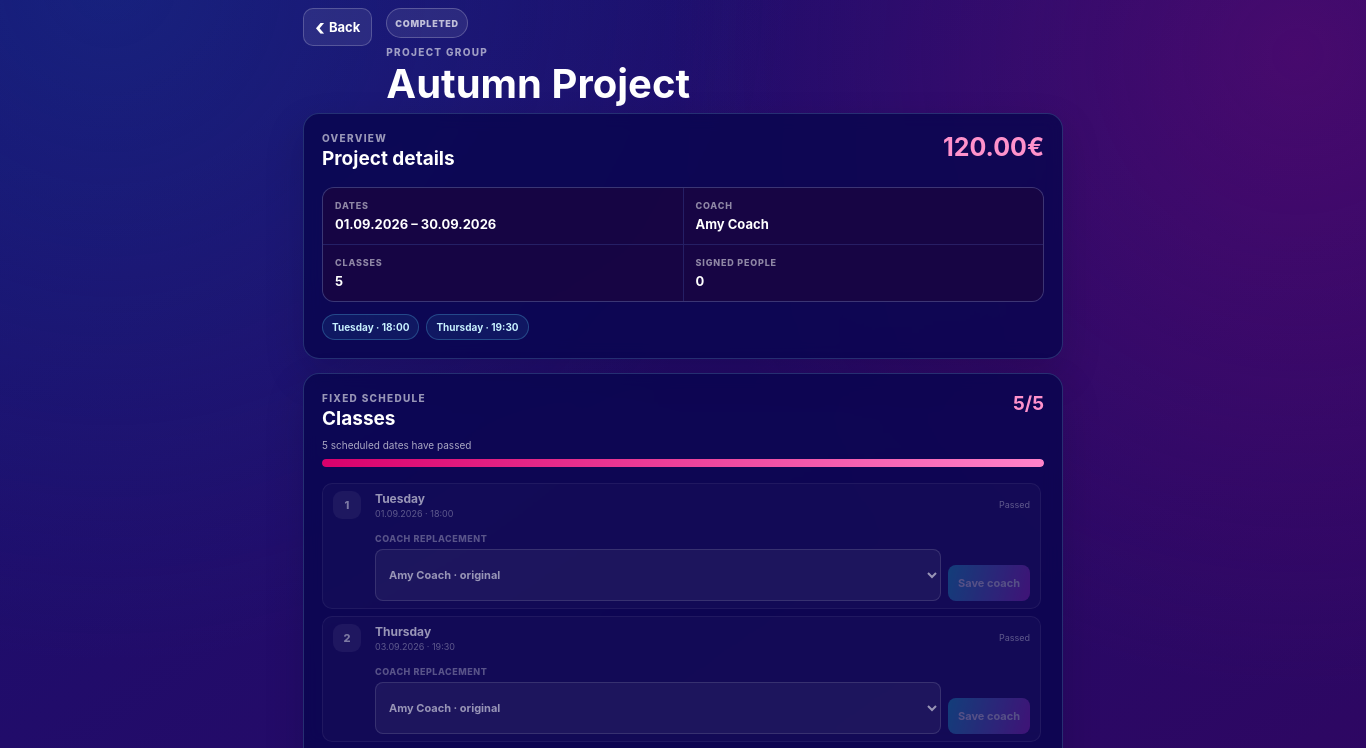
it: ProjectDetailPage › assigns a replacement coach to an individual project class
The width and height of the screenshot is (1366, 748).
Select "Zoey Coach" in the 1st dropdown labelled "Coach replacement" at (658, 575), box [375,549,941,601]
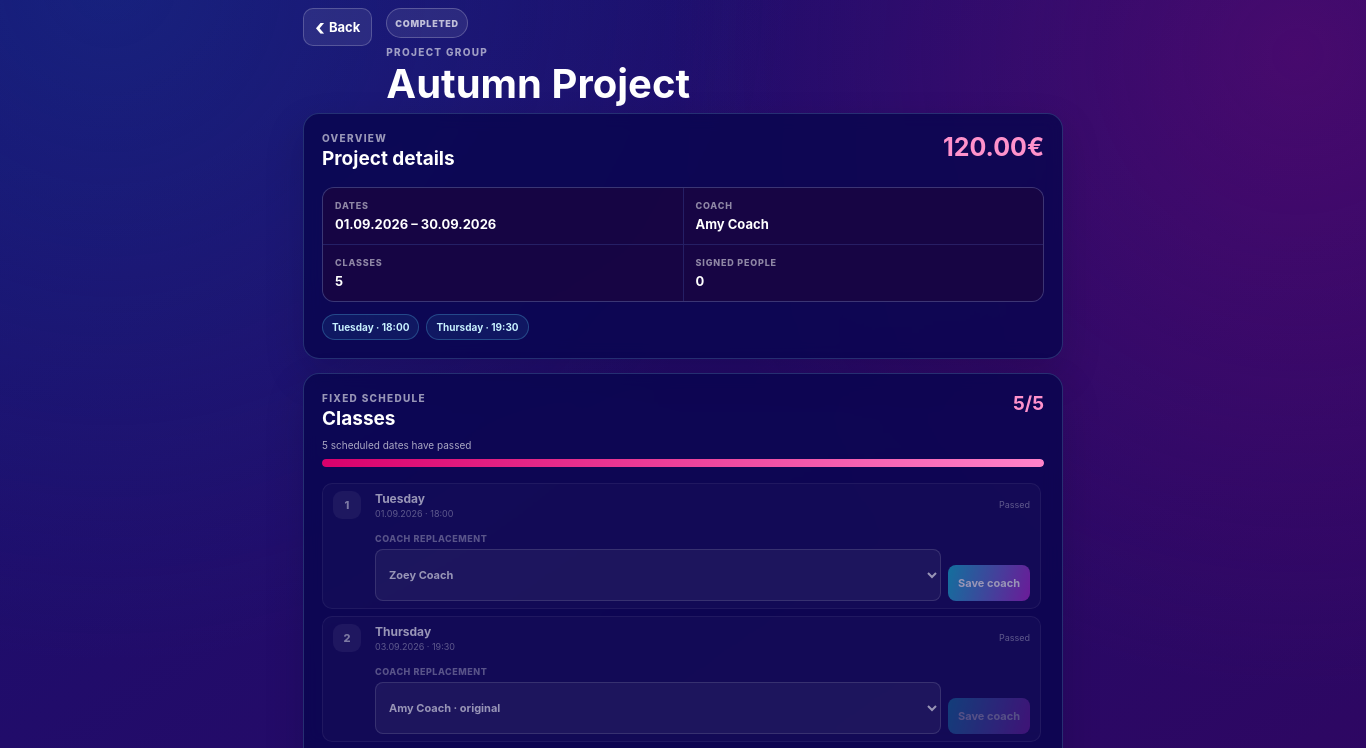
Click the 1st button "Save coach" at (989, 583), box [948,565,1030,601]
(page scrolled)
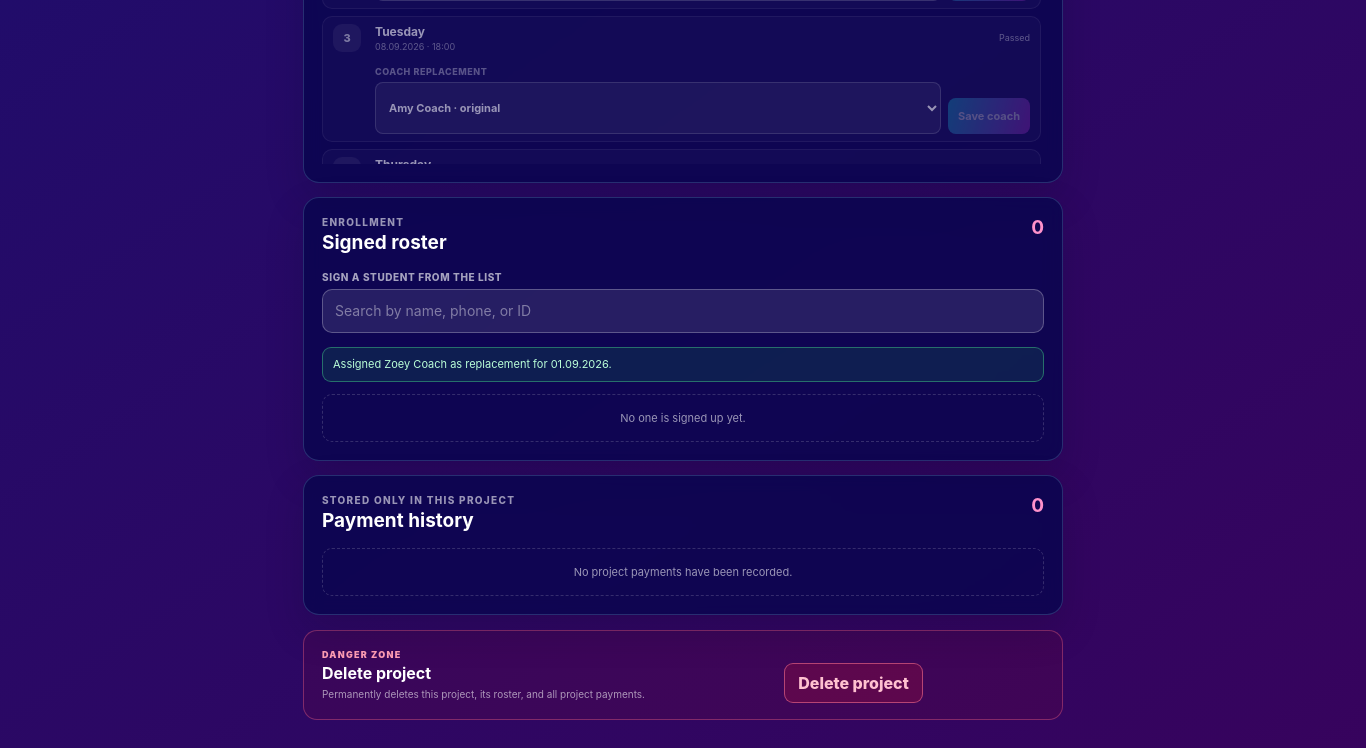
Expected: the text "Assigned Zoey Coach as replacement for 01.09.2026." is shown, [322,347,1044,382]
